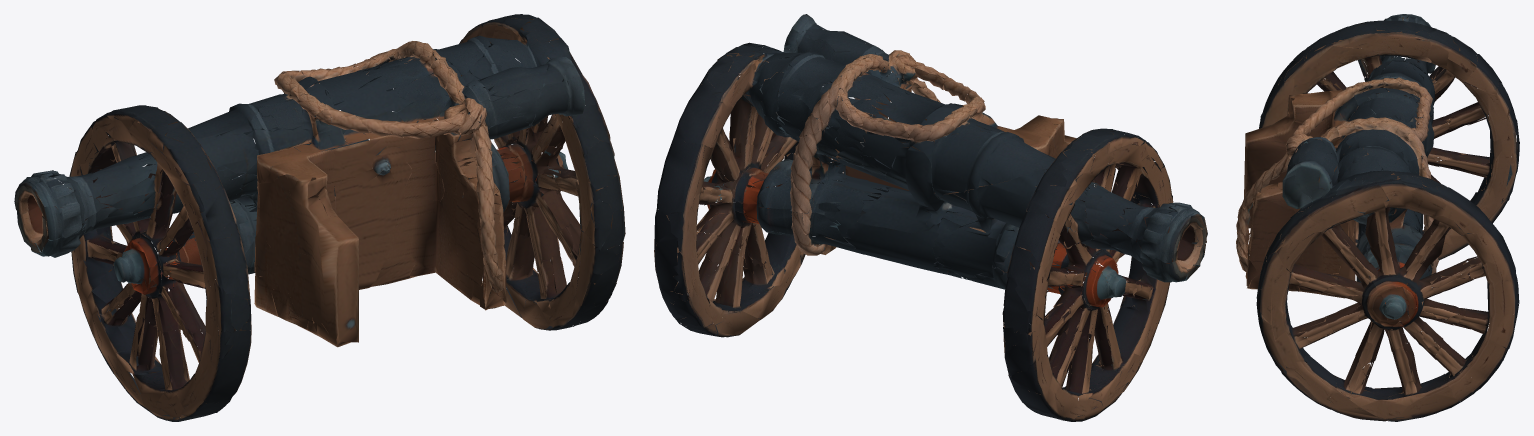
File: cannone_forte_lod1.glb
The picture shows the model from 3 angles, left to right: view 1: azimuth 30°, elevation 25°; view 2: azimuth 150°, elevation 25°; view 3: azimuth 270°, elevation 25°; orthographic projection. The views are drawn at different scales.
Parts seen in each view (by area): view 1: Mesh_0.002; view 2: Mesh_0.002; view 3: Mesh_0.002.
Boxes of the visible parts, x1,y1,x2,y2 form: Mesh_0.002: (14, 14, 625, 421); Mesh_0.002: (654, 14, 1207, 421); Mesh_0.002: (1236, 14, 1519, 421).
Bounding box in the file's own units: 2.38 × 1.3 × 1.33.
Materials: 1 (1 with a texture image).
